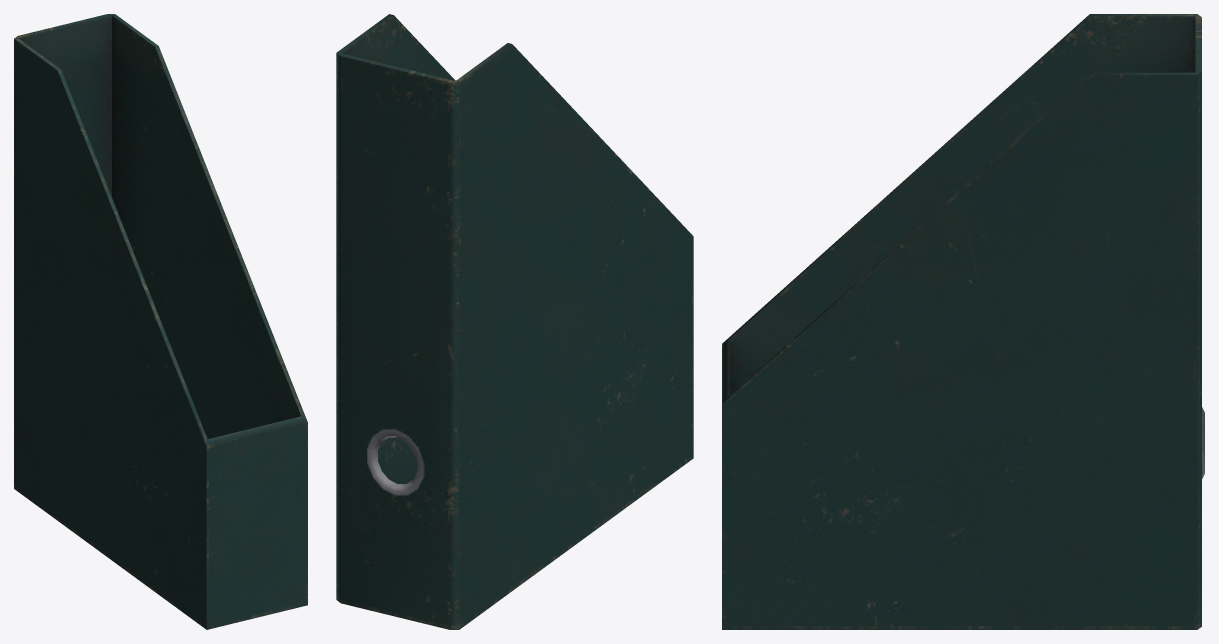
Rendered from computer_folders.glb.
3 views of the same model, side by side, from view 1: azimuth 30°, elevation 25°; view 2: azimuth 150°, elevation 25°; view 3: azimuth 270°, elevation 25° (orthographic). The views are drawn at different scales.
Visible parts, largest first — view 1: FileBox_Green; view 2: FileBox_Green; view 3: FileBox_Green.
Boxes of the visible parts, left/top/right/bottom form: FileBox_Green: left=14, top=14, right=307, bottom=629; FileBox_Green: left=336, top=14, right=693, bottom=629; FileBox_Green: left=722, top=14, right=1204, bottom=629.
Size of the model in its own units: 0.078 by 0.332 by 0.2618.
1 material, 1 textured.
